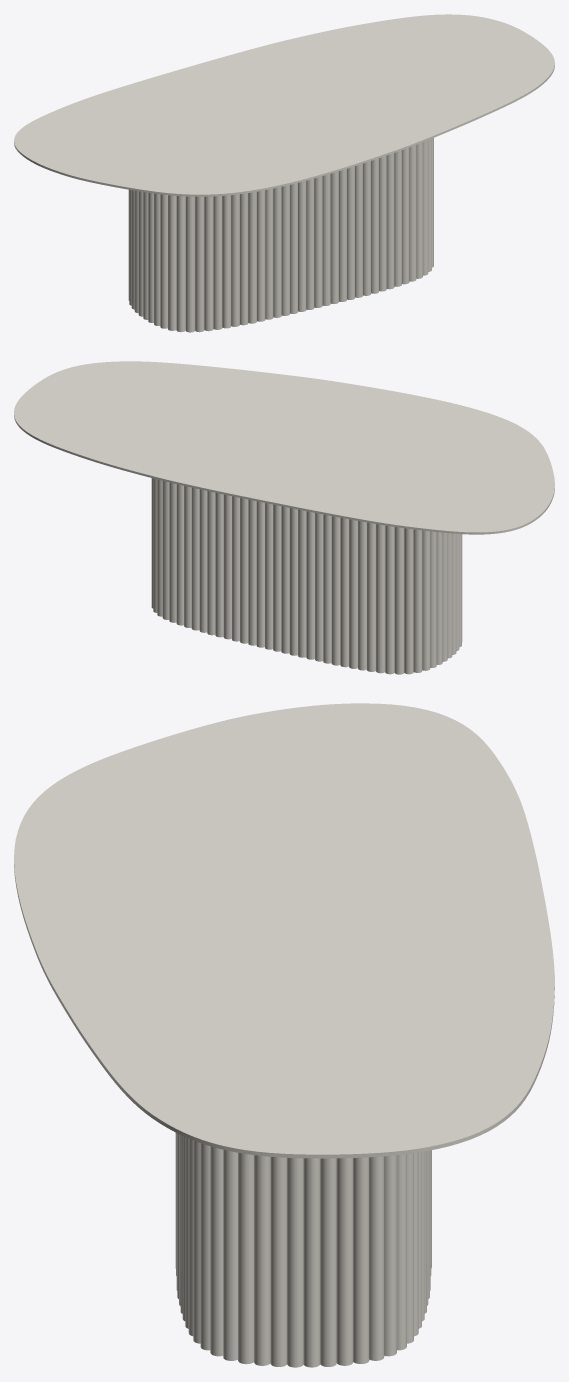
File: pale_leaf2_facet_newtable.glb
3 renders of one model, top to bottom at view 1: azimuth 30°, elevation 25°; view 2: azimuth 150°, elevation 25°; view 3: azimuth 270°, elevation 25°, orthographic. The views are drawn at different scales.
Parts seen in each view (by area): view 1: facet_leaf2, newtable; view 2: facet_leaf2, newtable; view 3: facet_leaf2, newtable.
Part boxes in pixels (box(x1,y1,x2,y2)): facet_leaf2: box(14, 14, 554, 196); newtable: box(128, 138, 433, 332); facet_leaf2: box(14, 361, 554, 534); newtable: box(151, 478, 462, 674); facet_leaf2: box(14, 703, 554, 1158); newtable: box(175, 1133, 431, 1367).
Bounding box in the file's own units: 7.5 × 2.5 × 3.8.
Materials: 2 (2 with a texture image).
